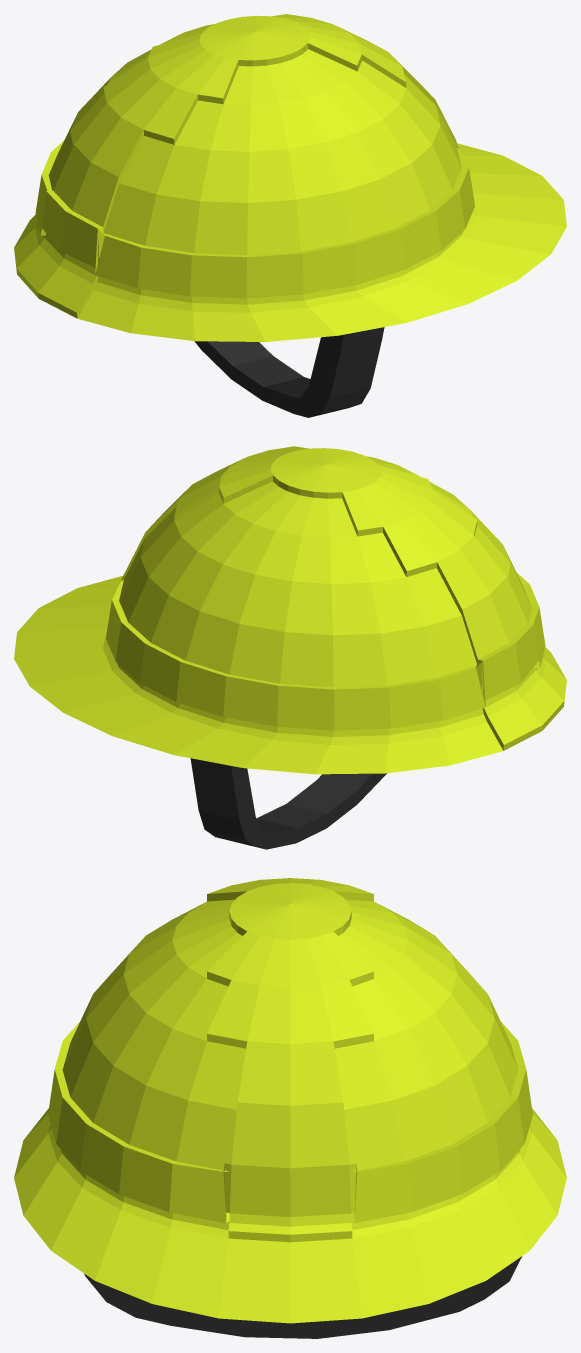
Rendered from hard-hat-google_9AMKar2NlkX-1m.glb.
3 renders of one model, top to bottom at view 1: azimuth 30°, elevation 25°; view 2: azimuth 150°, elevation 25°; view 3: azimuth 270°, elevation 25°, orthographic. The views are drawn at different scales.
Parts seen in each view (by area): view 1: Sphere001, Box001; view 2: Sphere001, Box001; view 3: Sphere001, Box001.
Part boxes in pixels (box(x1,y1,x2,y2)): Sphere001: box(14, 14, 566, 341); Box001: box(194, 327, 384, 417); Sphere001: box(14, 446, 566, 774); Box001: box(190, 758, 386, 849); Sphere001: box(14, 878, 566, 1323); Box001: box(84, 1256, 522, 1338).
Size of the model in its own units: 0.3 by 0.2008 by 0.2408.
